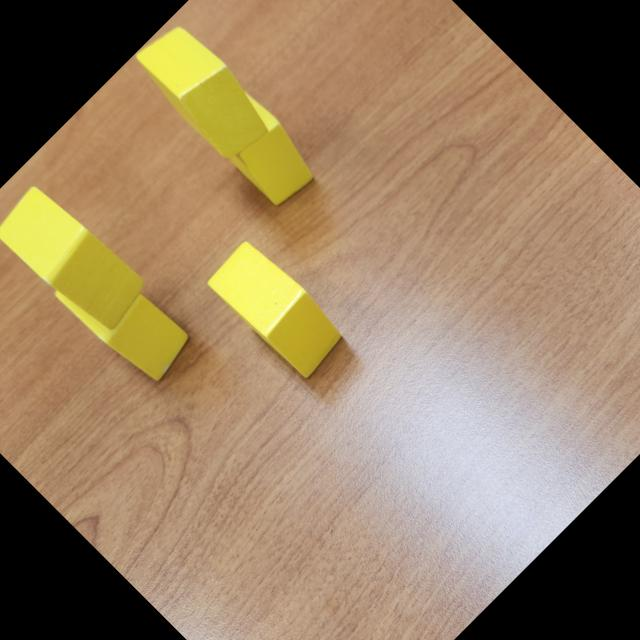yellow: (0, 174, 155, 342), (127, 14, 282, 169), (50, 242, 198, 390), (204, 234, 350, 381), (198, 84, 326, 212)
